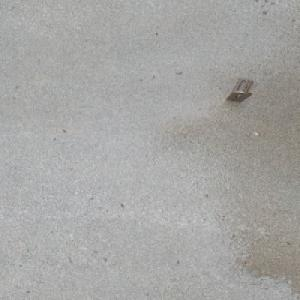MetalPart: (224, 78, 255, 103)
